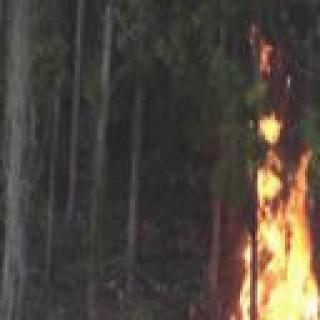fire: (162, 146, 320, 320)
